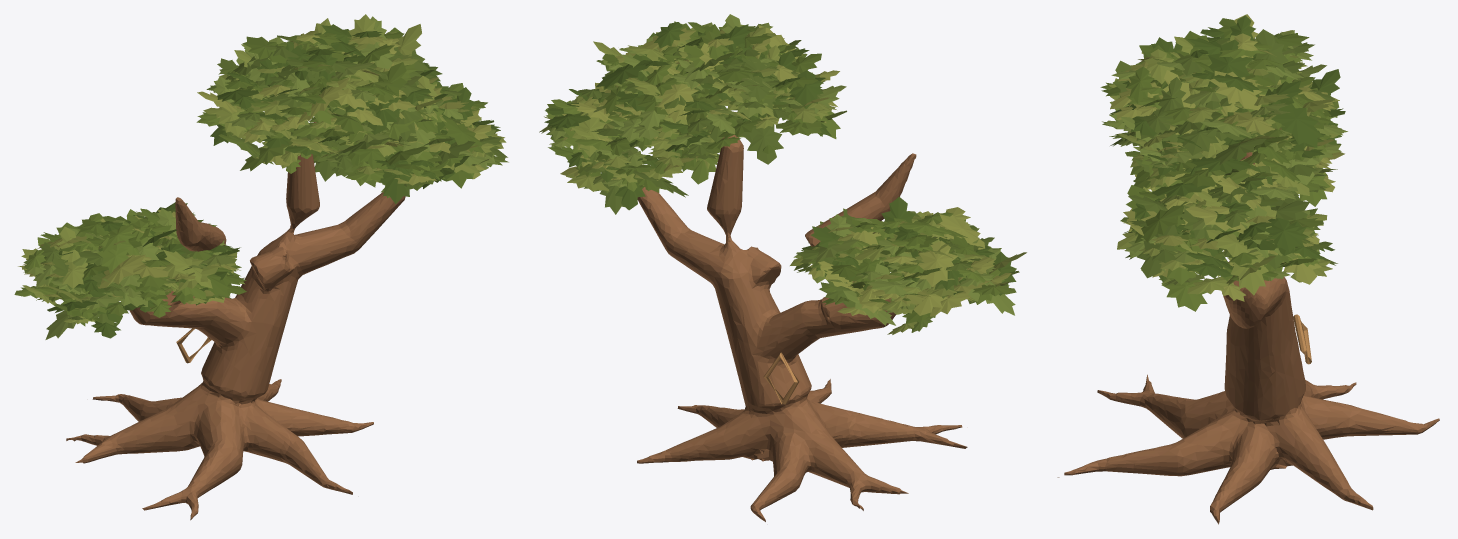
Rendered from reedside.glb.
3 views of the same model, side by side, from view 1: azimuth 30°, elevation 25°; view 2: azimuth 150°, elevation 25°; view 3: azimuth 270°, elevation 25° (orthographic). The views are drawn at different scales.
Visible parts, largest first — view 1: scalloped oak leaves, muscular fused oak; view 2: scalloped oak leaves, muscular fused oak; view 3: scalloped oak leaves, muscular fused oak, healed scar rim.
Boxes of the visible parts, left/top/right/bottom form: scalloped oak leaves: left=14, top=14, right=508, bottom=339; muscular fused oak: left=66, top=122, right=405, bottom=520; scalloped oak leaves: left=539, top=14, right=1026, bottom=334; muscular fused oak: left=637, top=135, right=967, bottom=521; scalloped oak leaves: left=1100, top=14, right=1347, bottom=311; muscular fused oak: left=1057, top=152, right=1439, bottom=524; healed scar rim: left=1293, top=314, right=1311, bottom=364.
Size of the model in its own units: 8.83 by 7.09 by 5.38.
